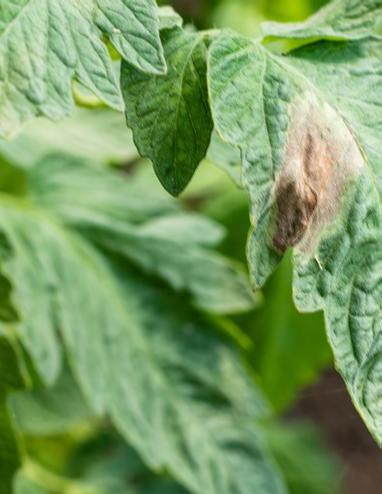Tomato leaf late blight: (202, 0, 382, 494), (0, 0, 168, 150)
